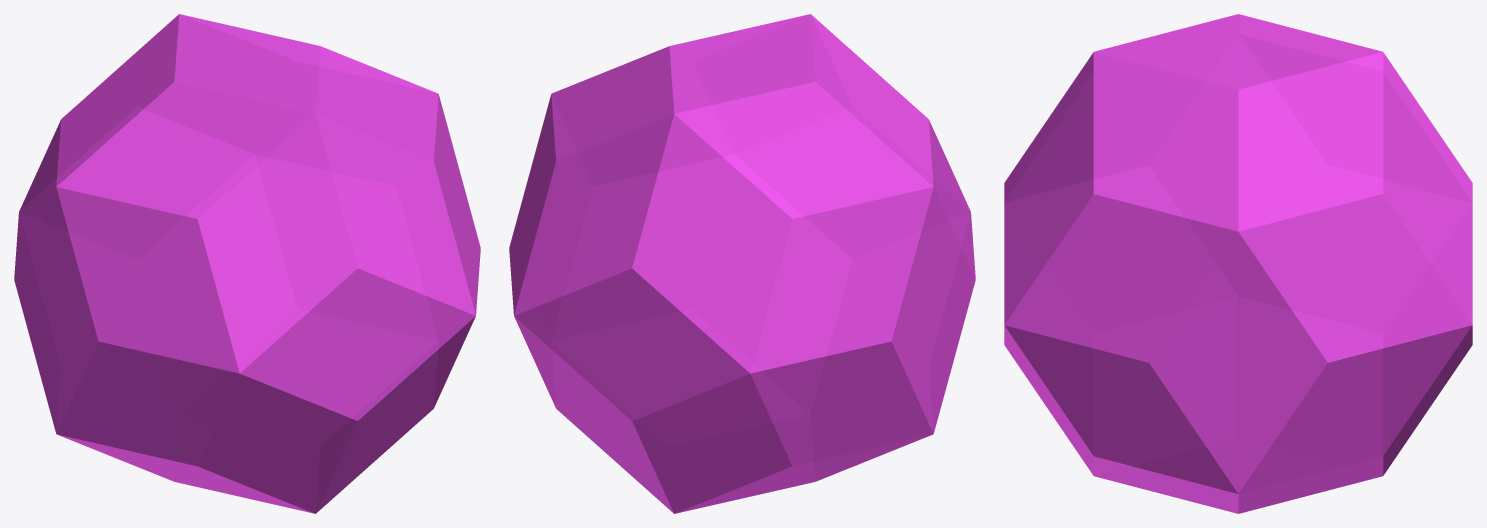
Rendered from RhombicTriacontahedron.obj.
3 views of the same model, side by side, from view 1: azimuth 30°, elevation 25°; view 2: azimuth 150°, elevation 25°; view 3: azimuth 270°, elevation 25° (orthographic). The views are drawn at different scales.
Size of the model in its own units: 2.93 by 2.93 by 2.93.
